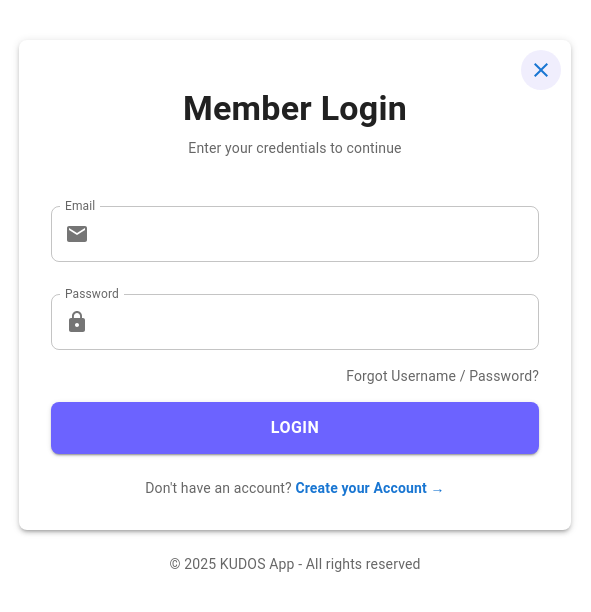
Scenario: LoginPage Integration Tests › Form Validation › should validate email format
The width and height of the screenshot is (591, 612).
// Enter invalid email
Type "invalid-email" into the field labelled "Email" at (318, 234), box [97,206,539,262]
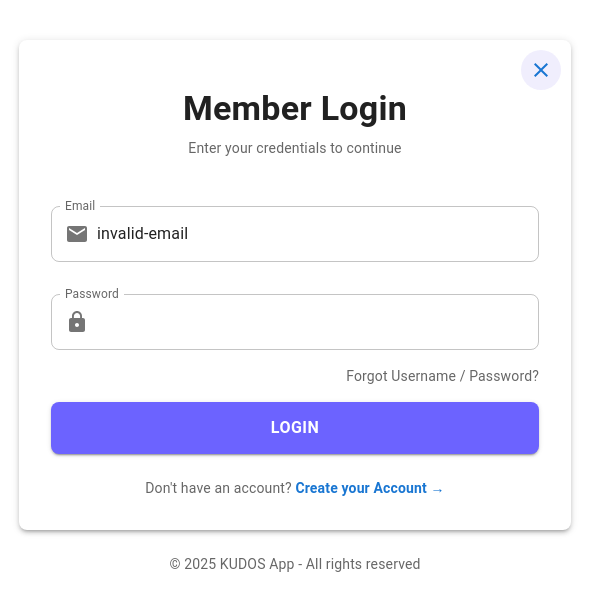
// Submit form
Click the button "Login" at (295, 428), box [51,402,539,454]
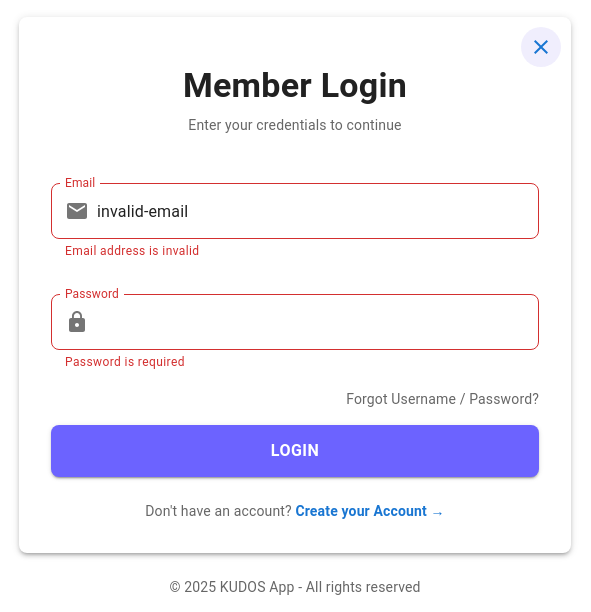
Expected: the text "Email address is invalid" is shown, [65,244,200,258]
